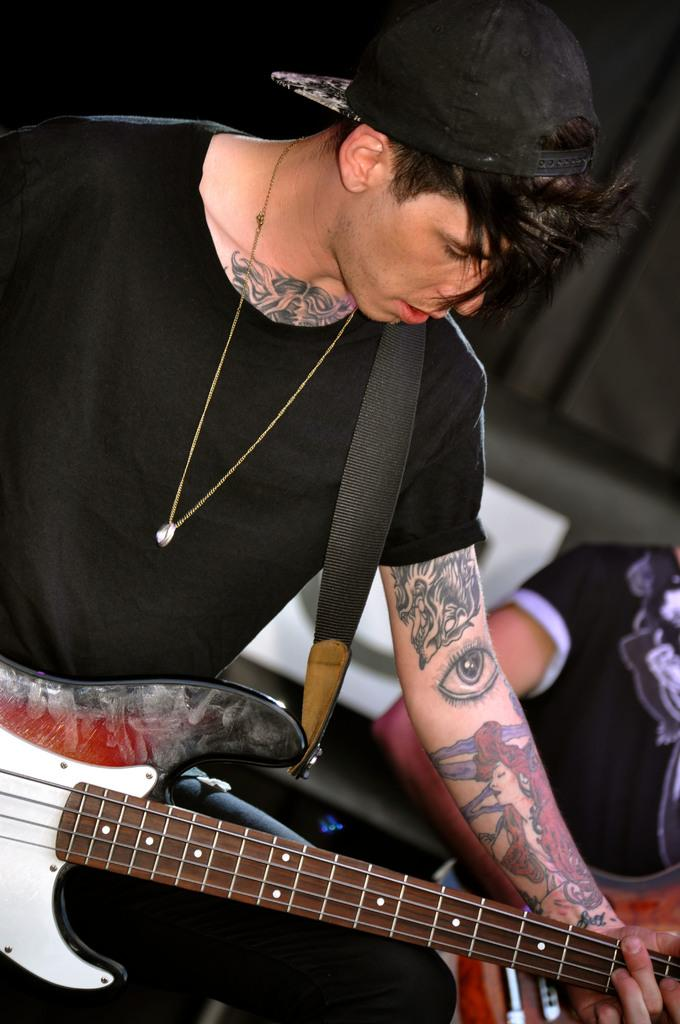Hat: (269, 0, 596, 170)
